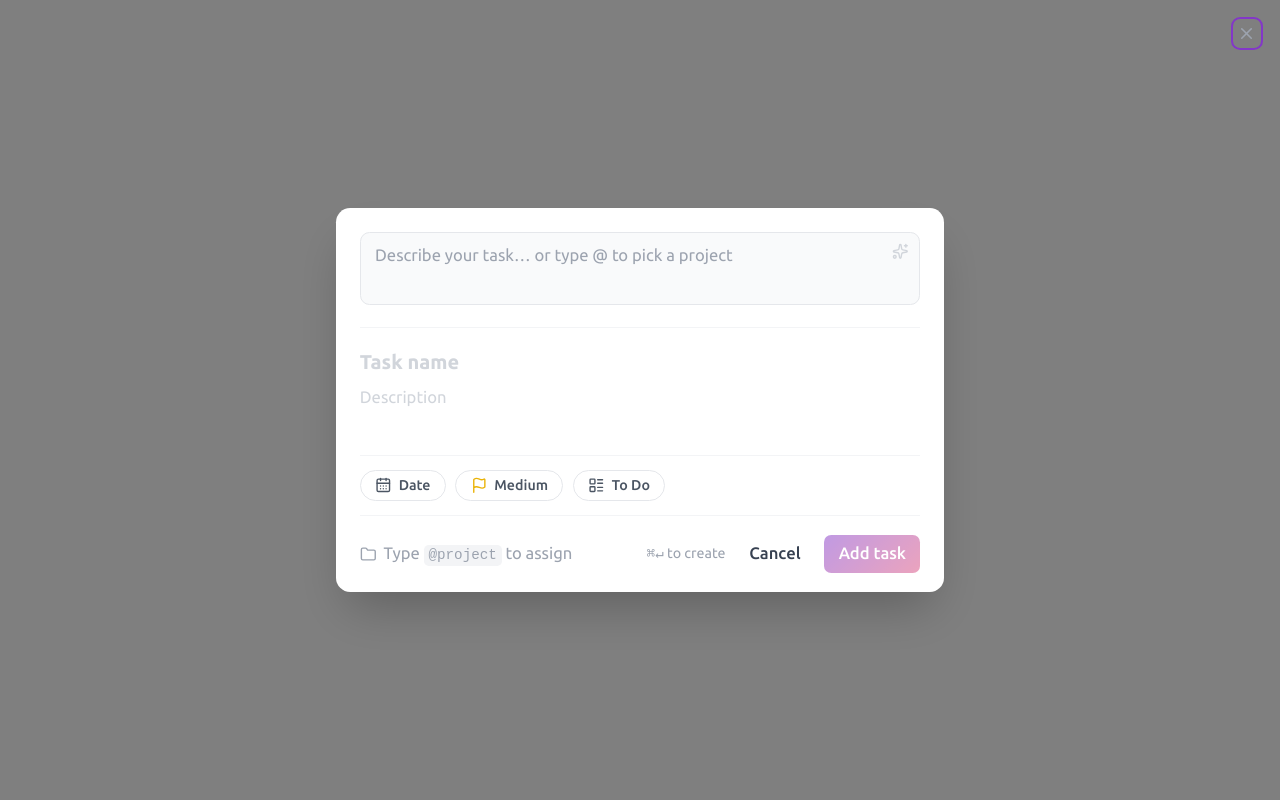
CreateTaskModal — smart input debounce and parse › pre-fills the title field when parse succeeds
The width and height of the screenshot is (1280, 800).
In the text box with placeholder "Describe your task… or type @ to pick a project": (640, 268) [360,232,920,305], type "Fix login bug by June"
Wait 700 ms
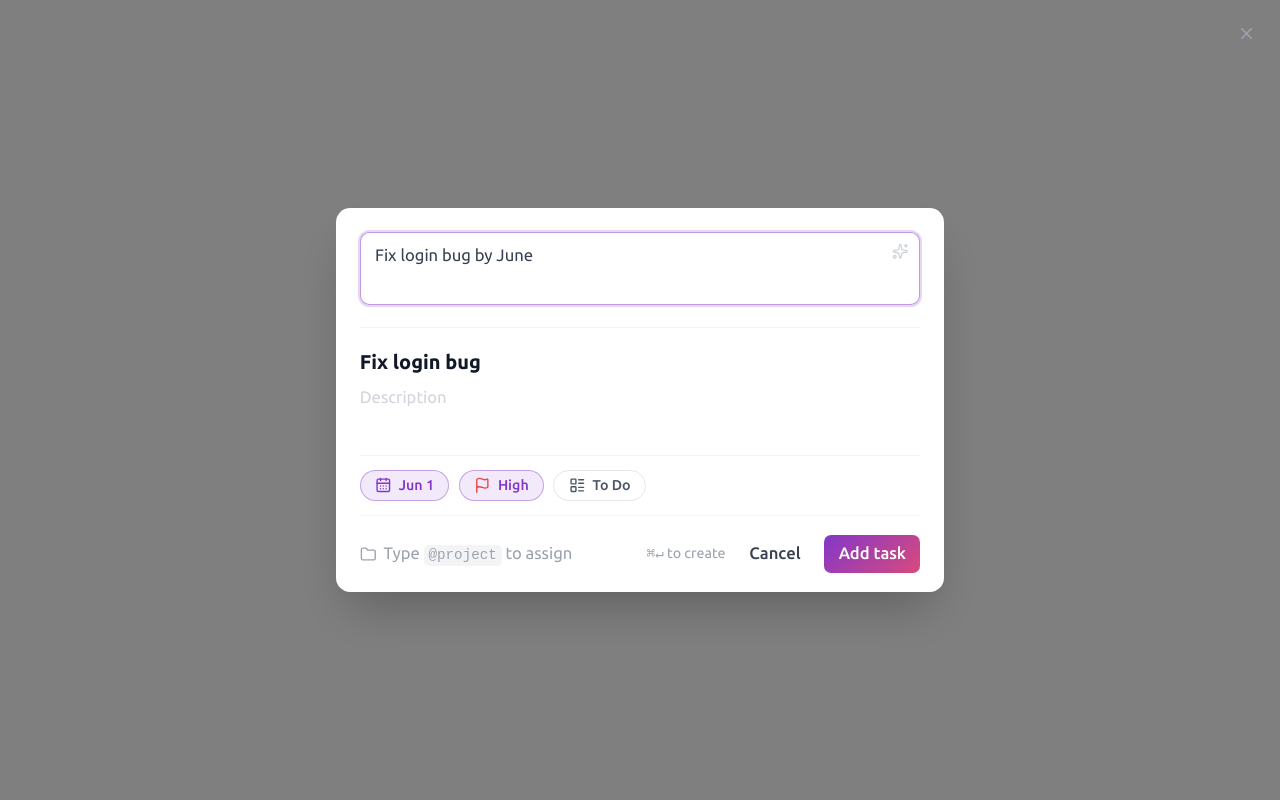
Expected: the field named "title" holds "Fix login bug", [360,346,920,376]
